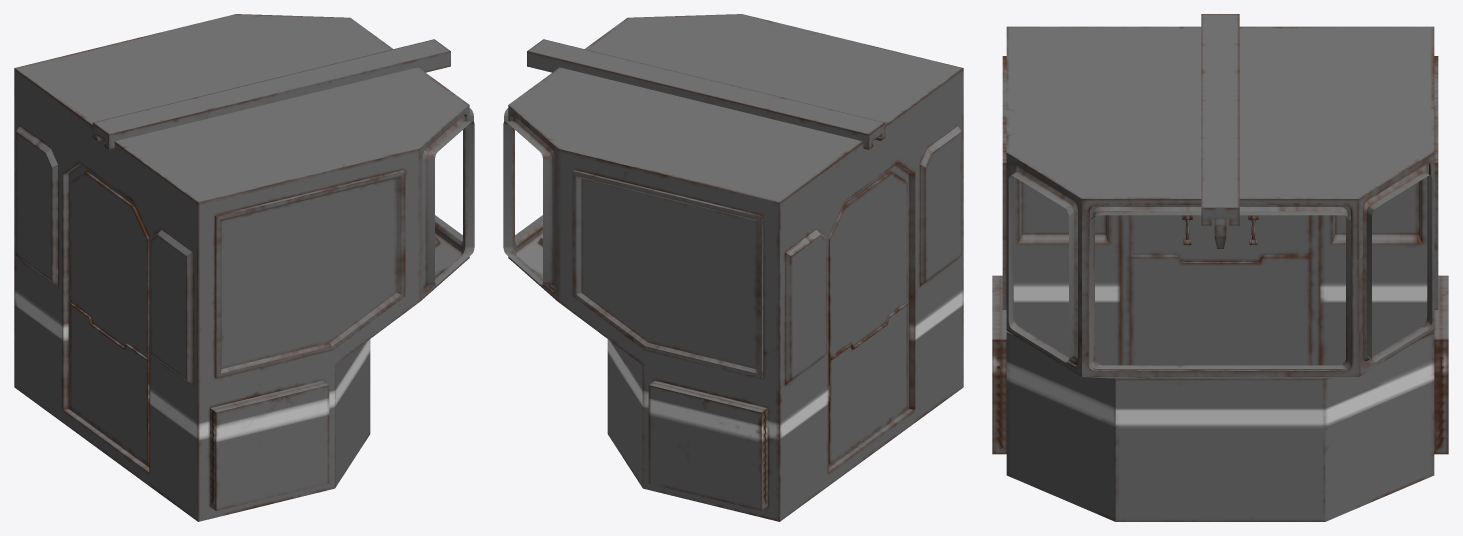
Rendered from cockpit Final.fbx.
3 renders of one model, left to right at view 1: azimuth 30°, elevation 25°; view 2: azimuth 150°, elevation 25°; view 3: azimuth 270°, elevation 25°, orthographic. The views are drawn at different scales.
Parts seen in each view (by area): view 1: Cockpit base export, Control support export; view 2: Cockpit base export, Control support export; view 3: Cockpit base export, Control support export.
Part boxes in pixels (x1=…): Cockpit base export: x1=14, y1=14, x2=474, y2=521; Control support export: x1=92, y1=39, x2=450, y2=149; Cockpit base export: x1=503, y1=14, x2=963, y2=521; Control support export: x1=527, y1=39, x2=885, y2=149; Cockpit base export: x1=992, y1=26, x2=1448, y2=521; Control support export: x1=1182, y1=14, x2=1258, y2=248.
Size of the model in its own units: 235 by 215 by 234.
Materials: 2 (2 with a texture image).
